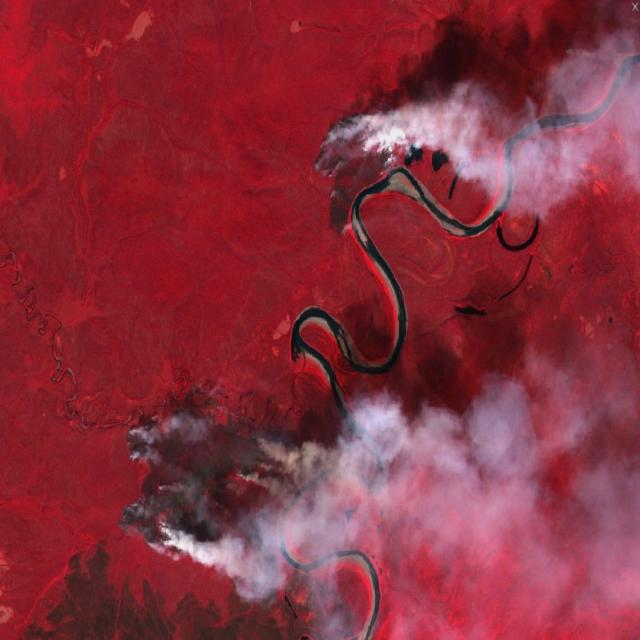fire: (112, 380, 306, 578), (307, 96, 404, 244)
